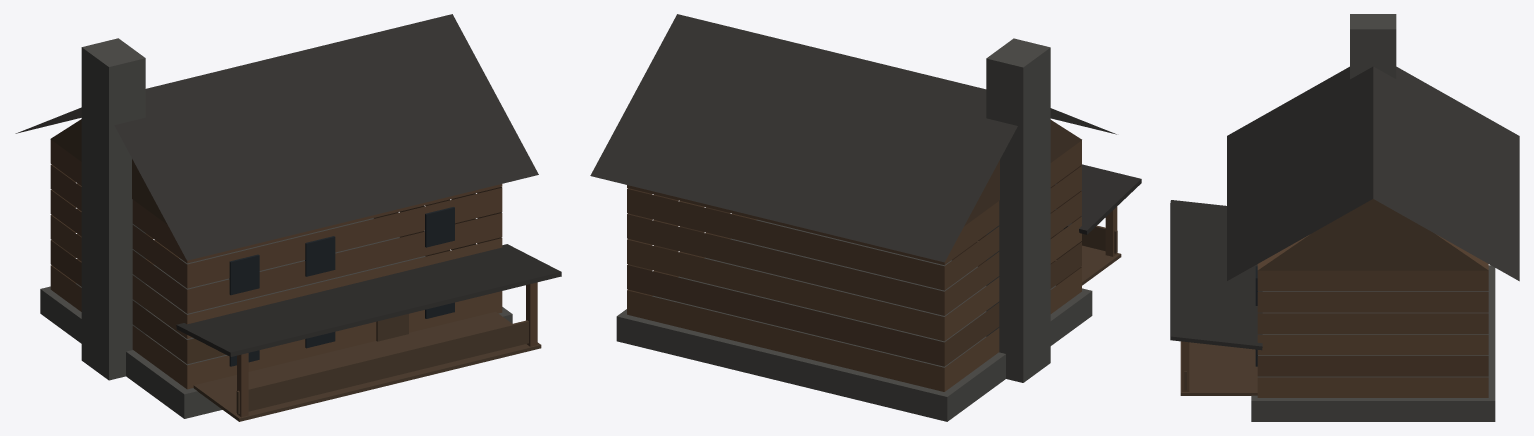
File: eifel-lodge-lod.glb
3 renders of one model, left to right at view 1: azimuth 30°, elevation 25°; view 2: azimuth 150°, elevation 25°; view 3: azimuth 270°, elevation 25°, orthographic. The views are drawn at different scales.
Visible parts, largest first — view 1: eifel-lodge; view 2: eifel-lodge; view 3: eifel-lodge.
Boxes of the visible parts, box(x1,y1,x2,y2) form: eifel-lodge: box(15, 14, 561, 421); eifel-lodge: box(590, 14, 1141, 421); eifel-lodge: box(1170, 14, 1519, 421).
Size of the model in its own units: 13.6 by 11.4 by 13.6.
